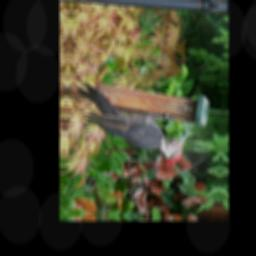Woodpecker: (71, 80, 192, 168)
